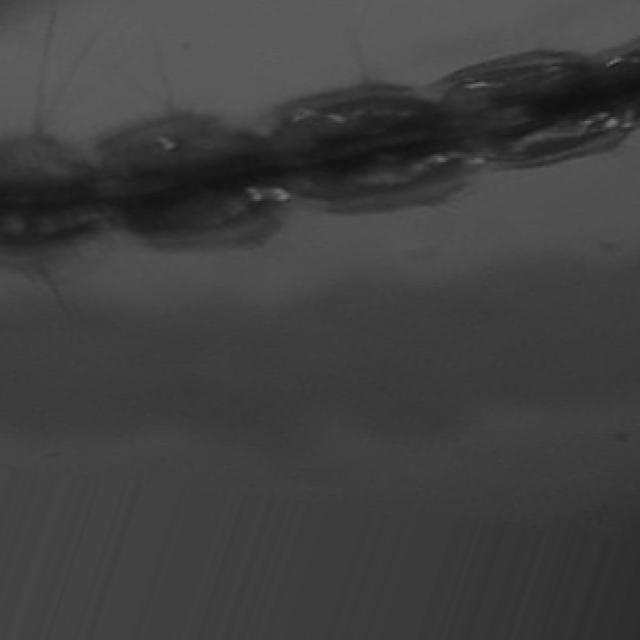larvas: (0, 26, 640, 258)
